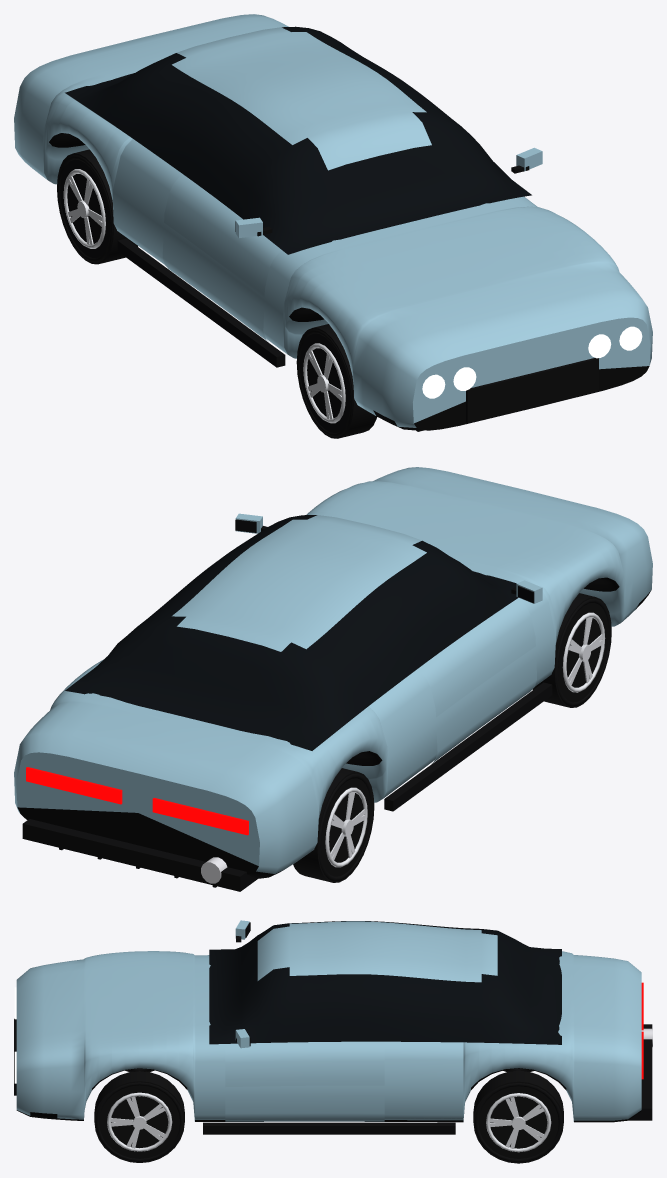
File: relic.glb
3 views of the same model, one above another, from view 1: azimuth 30°, elevation 25°; view 2: azimuth 150°, elevation 25°; view 3: azimuth 270°, elevation 25° (orthographic). The views are drawn at different scales.
Parts seen in each view (by area): view 1: Body, Cabin, Panel2, Details, Tire2, Tire4, HeadLights, Rim2, Rim4; view 2: Body, Cabin, Details, Panel2, Tire4, Tire2, TailLights, Rim4, Rim2; view 3: Body, Cabin, Panel, Tire3, Tire, Details, Rim, Rim3.
Boxes of the visible parts, x1,y1,x2,y2 form: Body: [14, 14, 652, 430]; Cabin: [65, 26, 531, 254]; Panel2: [162, 174, 281, 341]; Details: [117, 147, 598, 431]; Tire2: [296, 324, 376, 438]; Tire4: [57, 149, 137, 264]; HeadLights: [422, 326, 642, 398]; Rim2: [303, 343, 345, 423]; Rim4: [63, 169, 105, 248]; Body: [14, 467, 652, 878]; Cabin: [65, 515, 518, 750]; Details: [22, 513, 552, 891]; Panel2: [417, 598, 536, 763]; Tire4: [293, 768, 374, 882]; Tire2: [532, 593, 611, 707]; TailLights: [26, 767, 248, 835]; Rim4: [325, 787, 367, 867]; Rim2: [562, 612, 605, 692]; Body: [16, 951, 641, 1122]; Cabin: [209, 921, 561, 1044]; Panel: [225, 1041, 384, 1121]; Tire3: [473, 1070, 563, 1163]; Tire: [94, 1071, 184, 1162]; Details: [14, 920, 652, 1134]; Rim: [107, 1092, 172, 1151]; Rim3: [486, 1093, 551, 1152].
Bounding box in the file's own units: 2.09 × 1.42 × 4.8.
